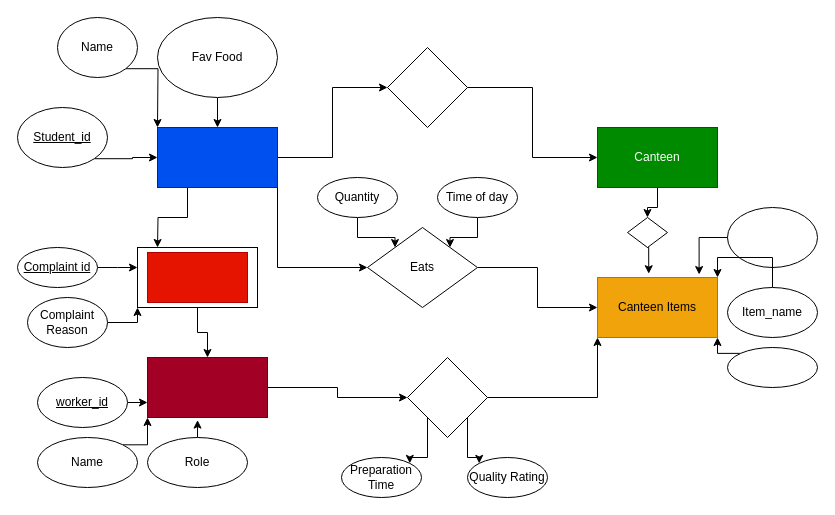
This 835x515 diagram has some shape labels left out. Here are the shapes that lost their labels. From the top down, the centre of each, then its label:
At [427,87]: "Goes".
At [217,157]: "Student".
At [647,232]: "Has".
At [772,237]: "Item_id".
At [197,277]: "Complaint".
At [207,387]: "Canteen Worker".
At [772,367]: "Price".
At [447,397]: "Prepares".
